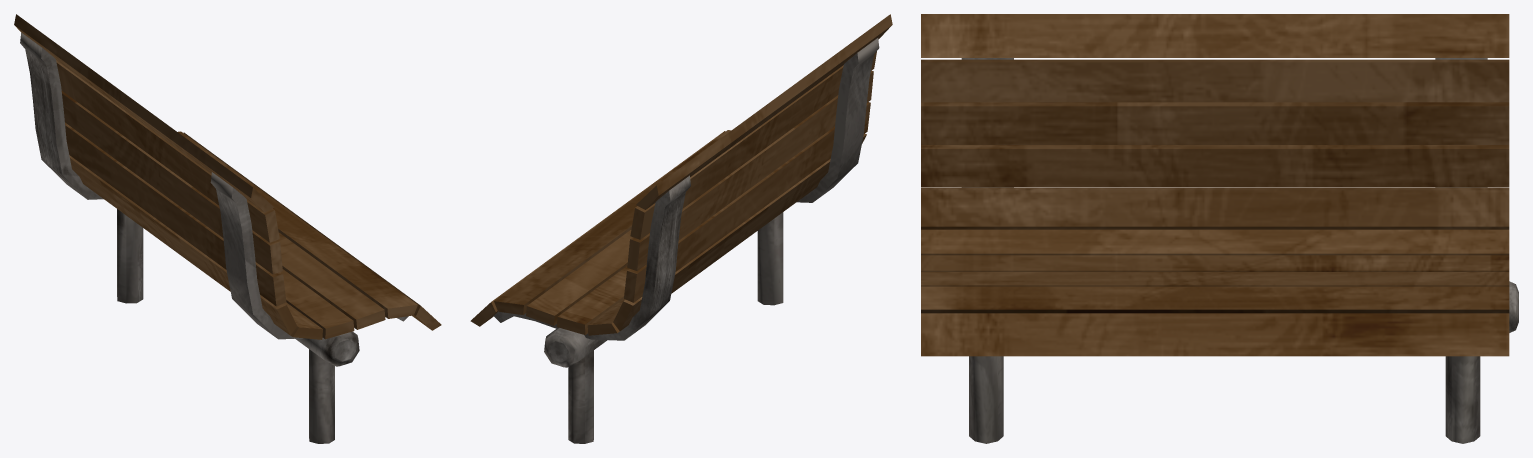
File: o3_panchina_legno.glb
3 renders of one model, left to right at view 1: azimuth 30°, elevation 25°; view 2: azimuth 150°, elevation 25°; view 3: azimuth 270°, elevation 25°, orthographic. The views are drawn at different scales.
Visible parts, largest first — view 1: sb_modello; view 2: sb_modello; view 3: sb_modello.
Boxes of the visible parts, left/top/right/bottom form: sb_modello: left=14, top=14, right=441, bottom=443; sb_modello: left=470, top=14, right=892, bottom=443; sb_modello: left=921, top=14, right=1518, bottom=443.
Bounding box in the file's own units: 0.6354 × 0.92 × 1.37.
2 materials, 2 textured.
